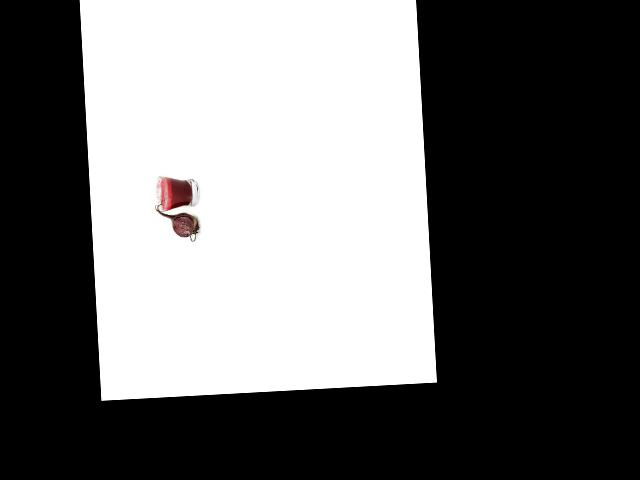beet: (155, 196, 200, 243)
